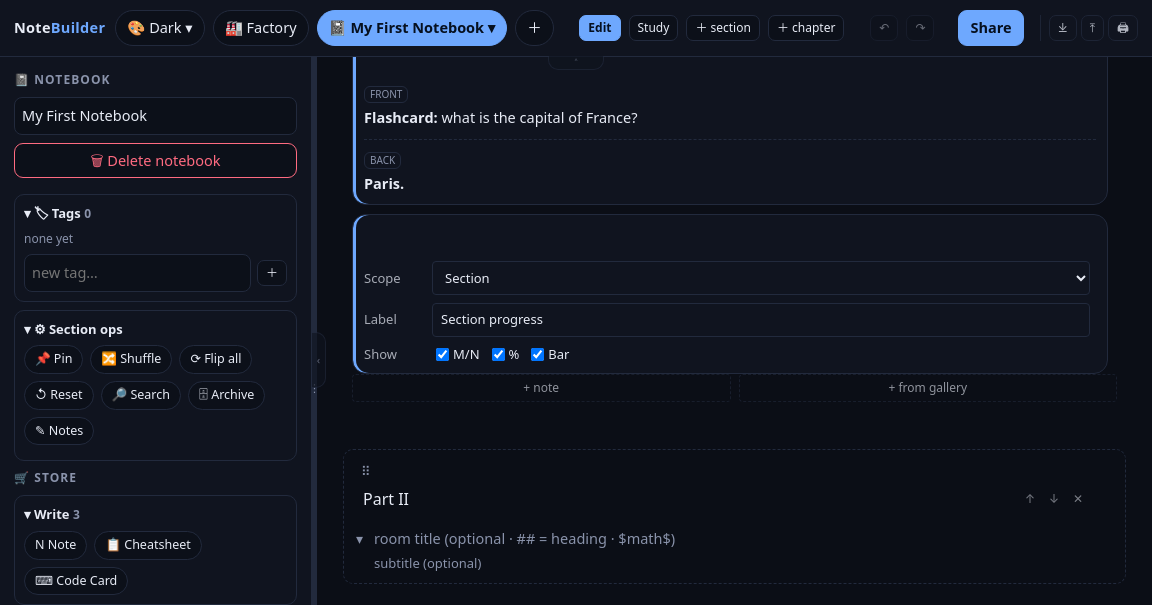
Test: App durability — hydration guard › persists nothing (demo notebook, reader state, factory) before hydration finished
(page scrolled)
Click the button with class "add-card" showing "+ note" at {"x": 541, "y": 388}, box x1=352 y1=374 x2=730 y2=402
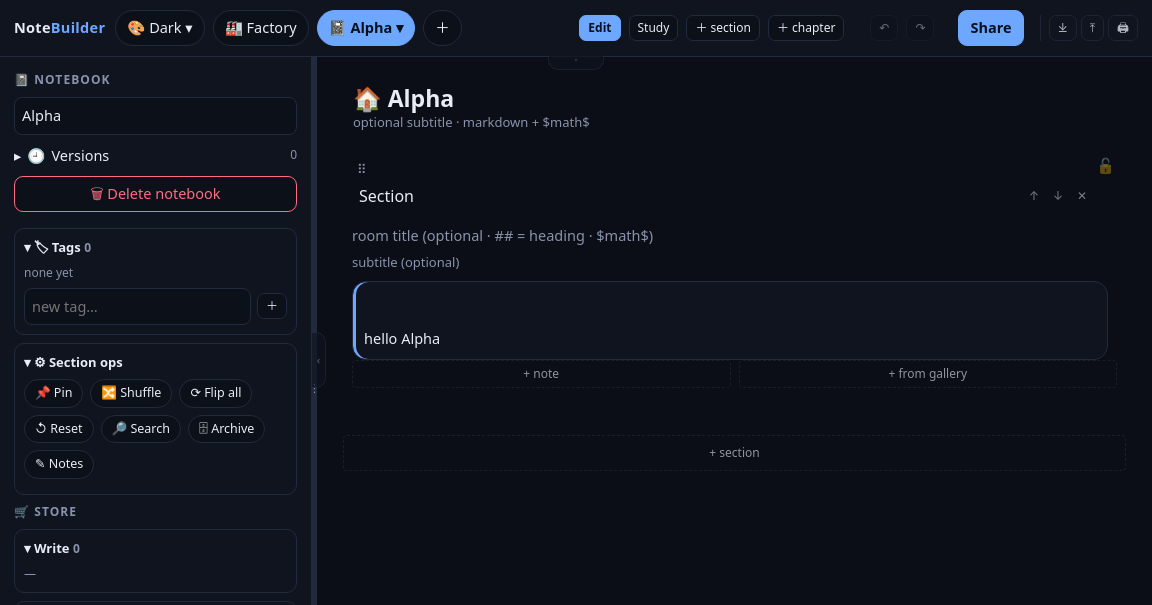
Result: the text "hello Alpha" is shown at x1=364 y1=328 x2=440 y2=348
